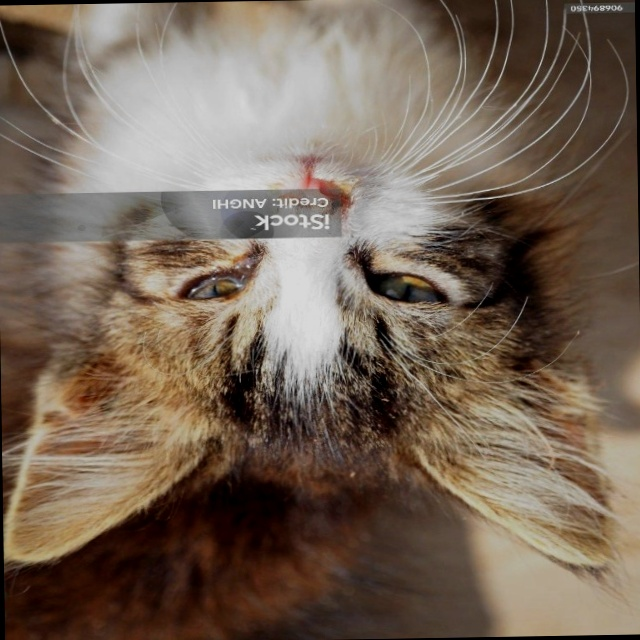eye_infection: (182, 262, 254, 300)
